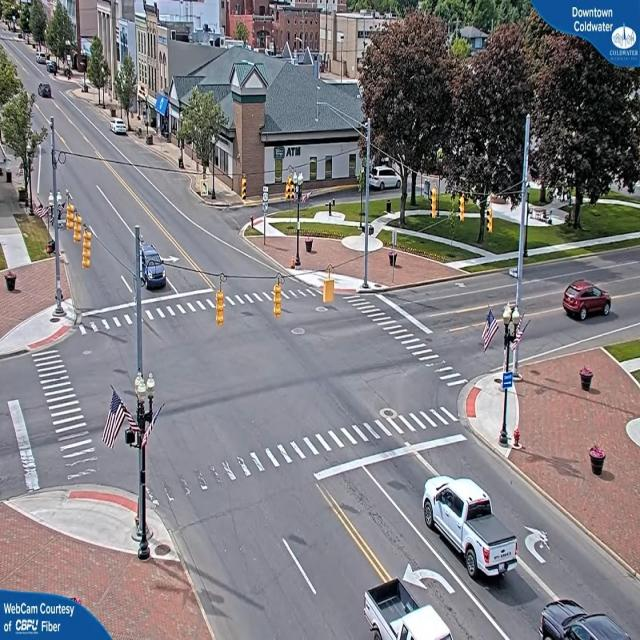car: (422, 476, 514, 581), (539, 601, 639, 639), (563, 280, 612, 322), (137, 240, 167, 290), (111, 121, 130, 138), (40, 84, 53, 98)
